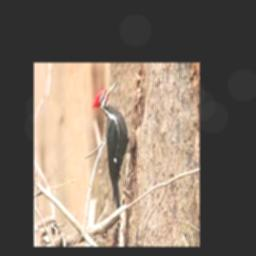Woodpecker: (91, 81, 129, 210)
